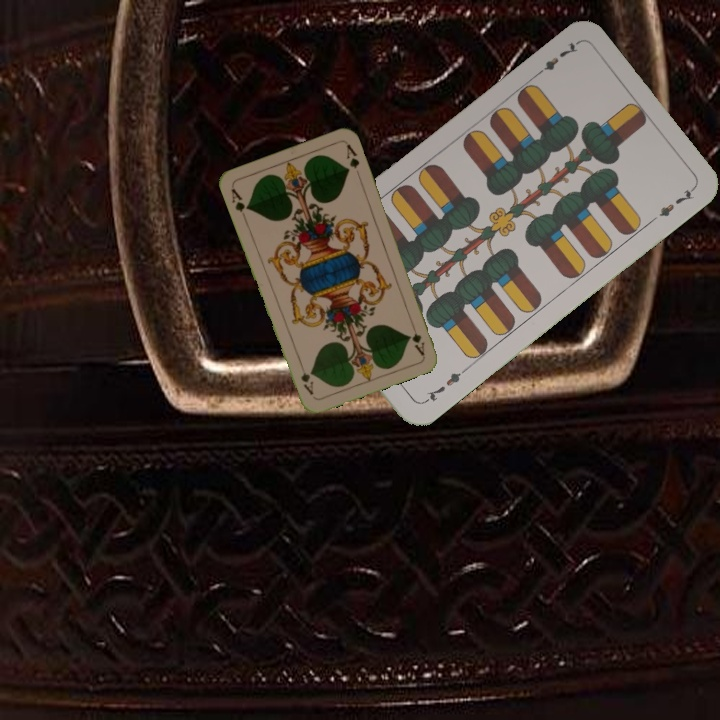E7: (419, 364, 469, 406), (531, 38, 581, 80)
GA: (227, 184, 252, 223), (408, 318, 427, 358)
